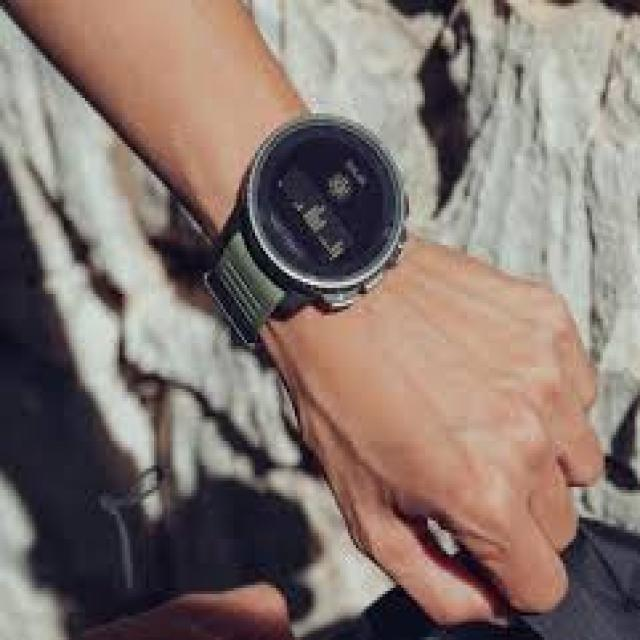objects: (206, 115, 413, 317)
